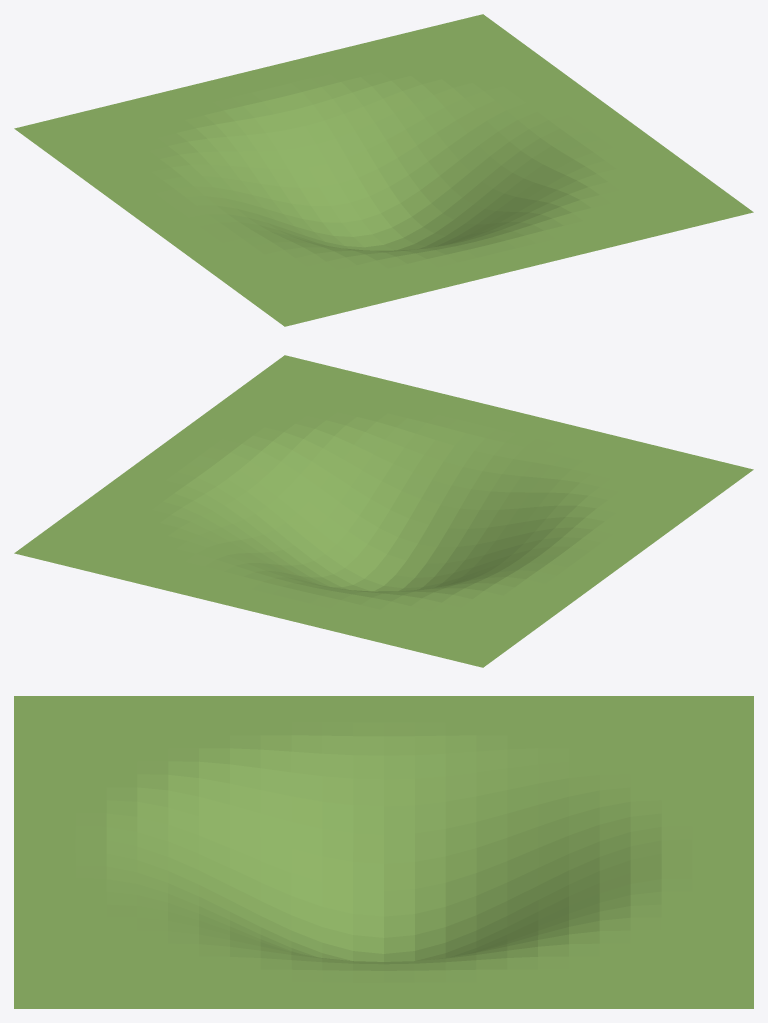
File: Lake V1.fbx
3 renders of one model, top to bottom at view 1: azimuth 30°, elevation 25°; view 2: azimuth 150°, elevation 25°; view 3: azimuth 270°, elevation 25°, orthographic. The views are drawn at different scales.
Parts seen in each view (by area): view 1: Lake V2; view 2: Lake V2; view 3: Lake V2.
Boxes of the visible parts, x1,y1,x2,y2 form: Lake V2: (14, 14, 753, 326); Lake V2: (14, 355, 753, 667); Lake V2: (14, 696, 753, 1008).
Size of the model in its own units: 20000 by 3028 by 20000.
